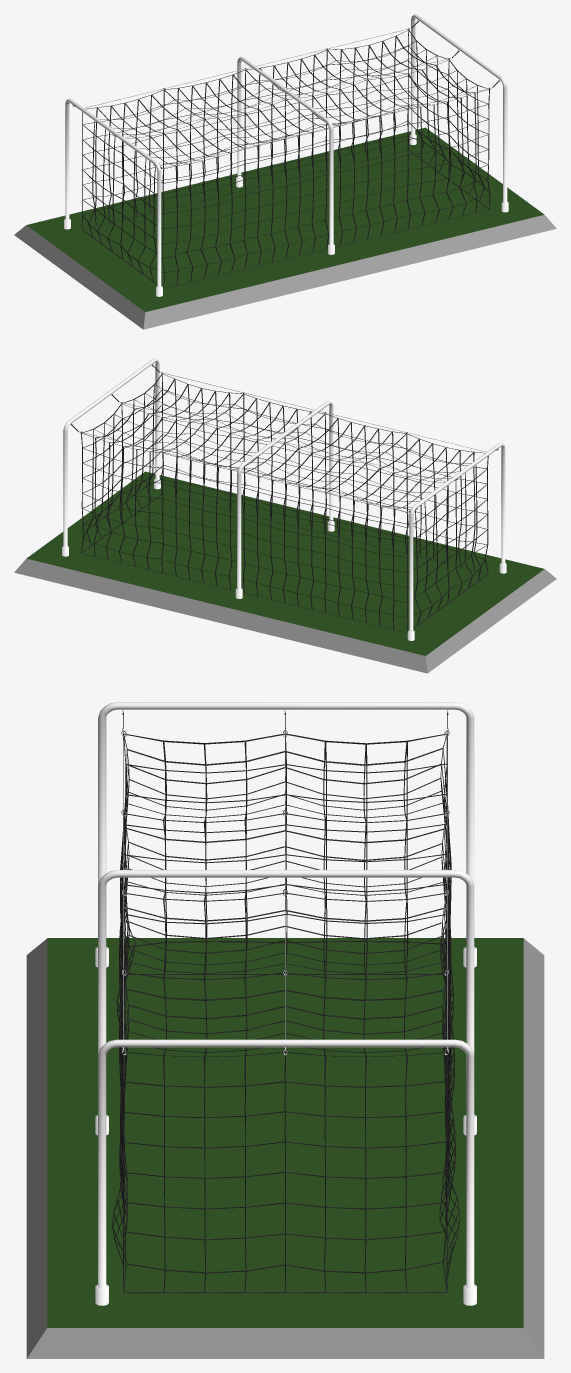
Rendered from Outdoor_Varsity_35_New.glb.
The picture shows the model from 3 angles, top to bottom: view 1: azimuth 30°, elevation 25°; view 2: azimuth 150°, elevation 25°; view 3: azimuth 270°, elevation 25°; orthographic projection. The views are drawn at different scales.
Parts seen in each view (by area): view 1: Playground.002, Cube.008, Frame.002, Ropes.002; view 2: Playground.002, Cube.008, Frame.002, Ropes.002; view 3: Playground.002, Cube.008, Frame.002, Ropes.002.
Boxes of the visible parts, <box> form: Playground.002: <box>14,127,556,329</box>; Cube.008: <box>82,30,490,289</box>; Frame.002: <box>64,14,508,296</box>; Ropes.002: <box>72,20,500,169</box>; Playground.002: <box>14,471,556,673</box>; Cube.008: <box>81,374,488,632</box>; Frame.002: <box>62,358,506,640</box>; Ropes.002: <box>70,364,498,513</box>; Playground.002: <box>26,938,544,1358</box>; Cube.008: <box>112,733,459,1293</box>; Frame.002: <box>95,702,476,1305</box>; Ropes.002: <box>121,709,449,1055</box>.
Bounding box in the file's own units: 13.21 × 4.38 × 7.16.
